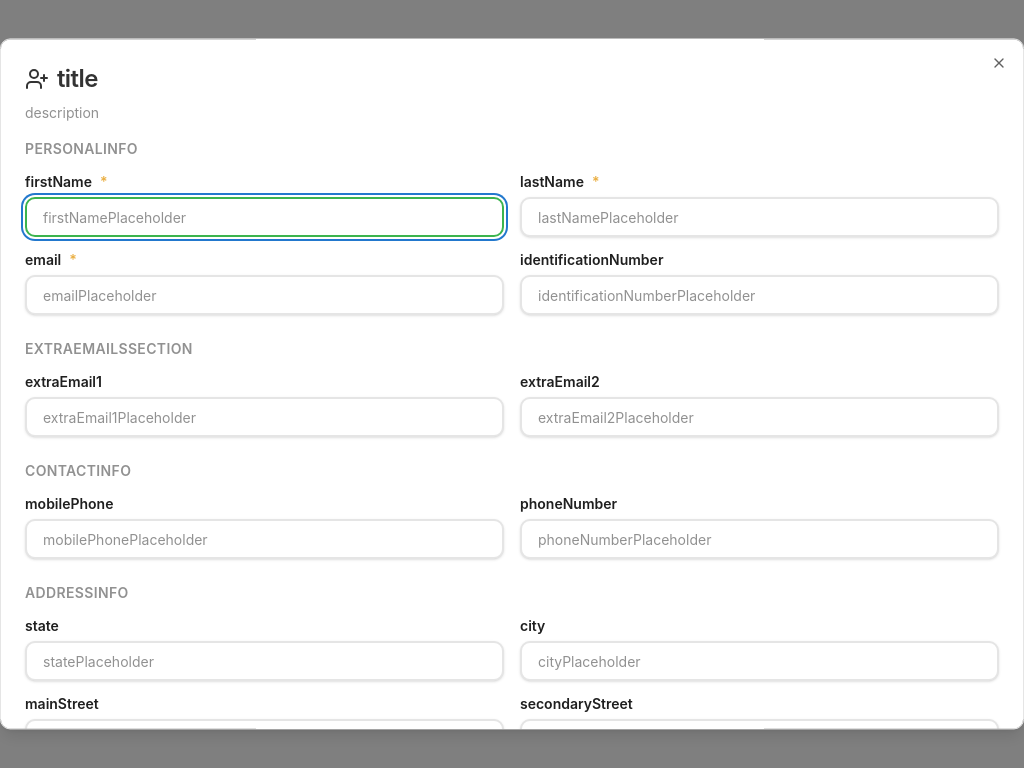
Test: AddClientDialog › shows validation error when email is empty on submit
The width and height of the screenshot is (1024, 768).
Type "John" into the field labelled "firstName *" at point(264, 217), box [25,197,504,237]
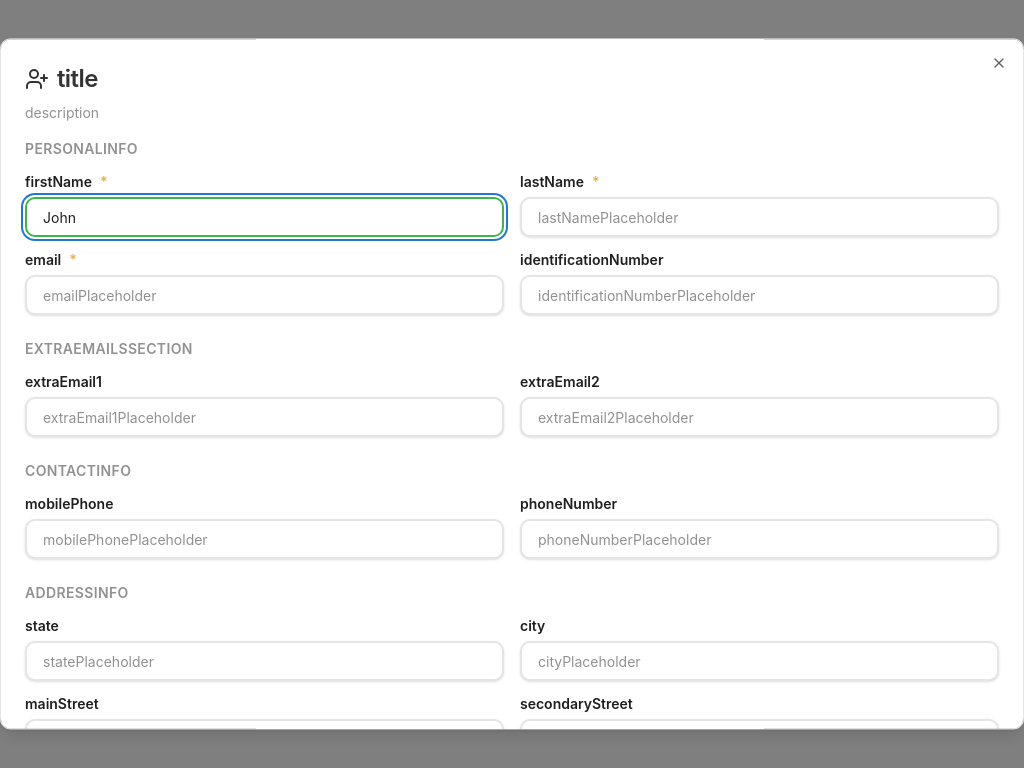
Type "Doe" into the field labelled "lastName *" at point(760, 217), box [520,197,999,237]
(page scrolled)
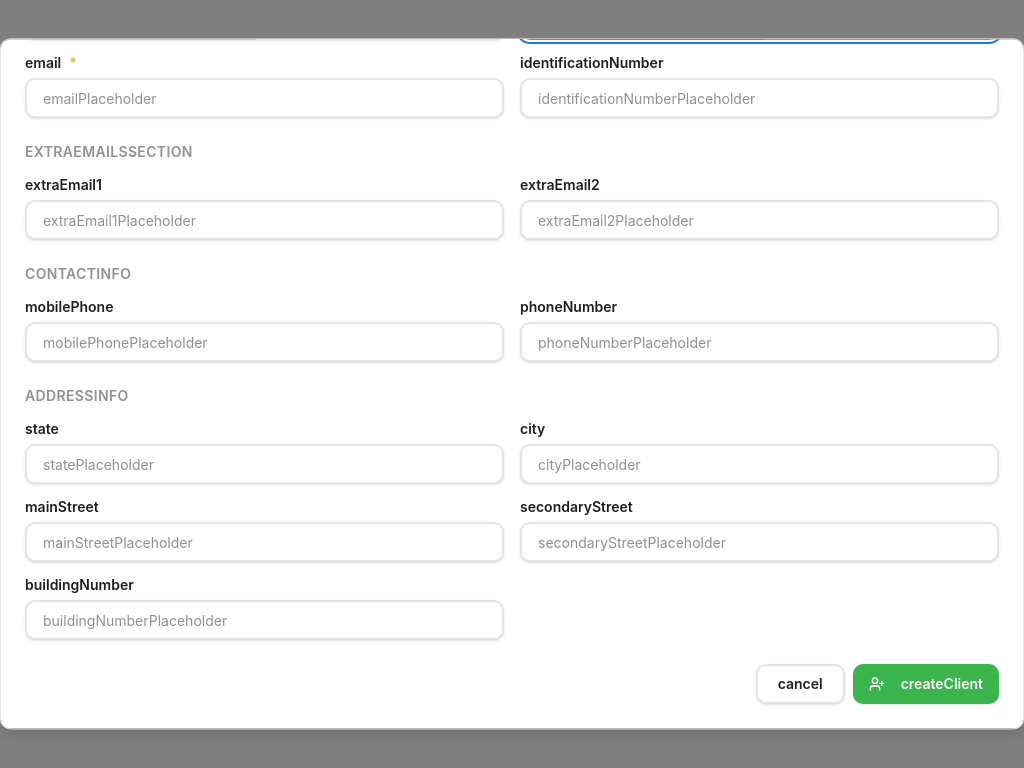
Click the button "createClient" at point(926, 684), box [853,664,999,704]
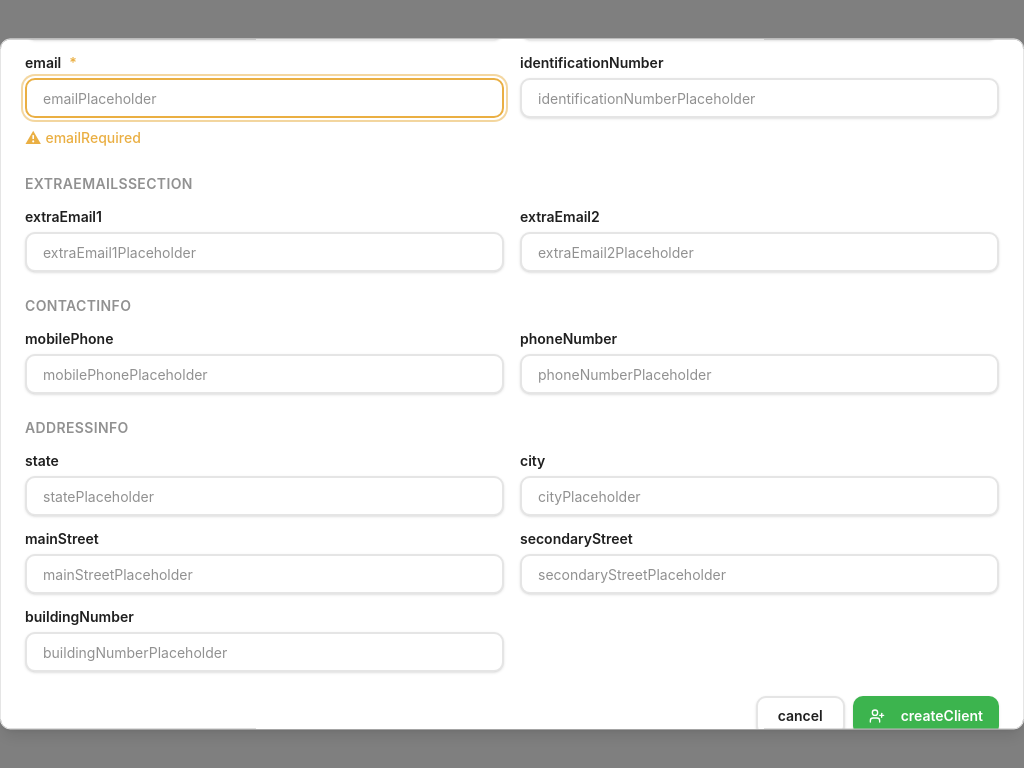
Now the text "emailRequired" is shown, box [45,129,141,146]
